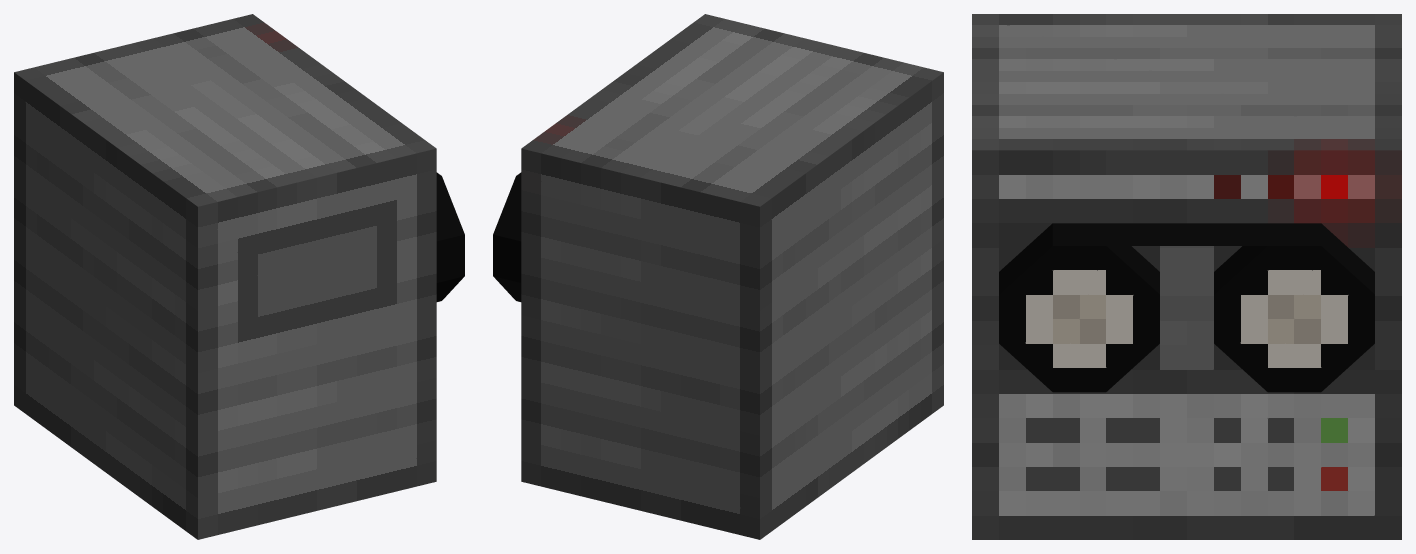
Rendered from deco_tape_recorder.obj.
The picture shows the model from 3 angles, left to right: view 1: azimuth 30°, elevation 25°; view 2: azimuth 150°, elevation 25°; view 3: azimuth 270°, elevation 25°; orthographic projection. The views are drawn at different scales.
Visible parts, largest first — view 1: Cube_Cube.001; view 2: Cube_Cube.001; view 3: Cube_Cube.001.
Boxes of the visible parts, <box> form: Cube_Cube.001: <box>14,14,464,539</box>; Cube_Cube.001: <box>493,14,943,539</box>; Cube_Cube.001: <box>972,14,1401,539</box>.
Bounding box in the file's own units: 0.875 × 1 × 1.
